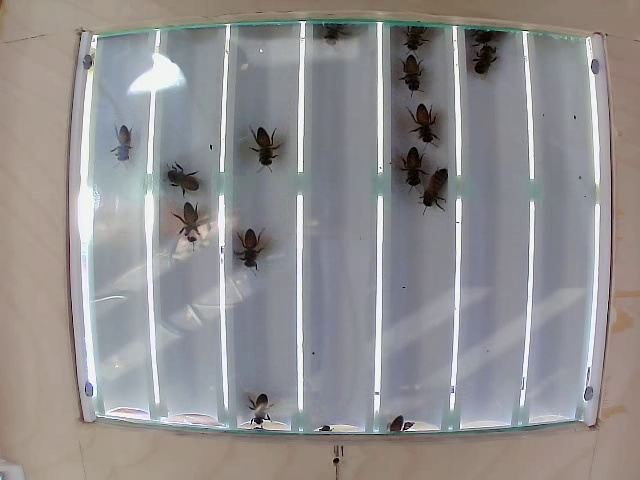bee: (101, 124, 147, 174), (248, 393, 298, 438), (152, 167, 200, 207), (250, 123, 283, 179), (242, 231, 272, 288), (399, 50, 428, 105), (182, 200, 209, 259), (407, 102, 444, 145), (421, 164, 446, 215), (403, 20, 433, 62), (469, 44, 502, 81), (404, 135, 422, 190)
